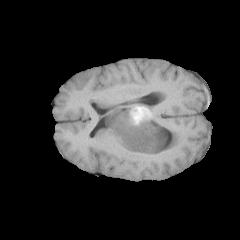glioma: (92, 102, 167, 157)
